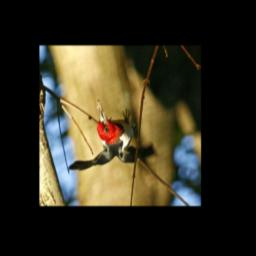Woodpecker: (64, 98, 156, 177)
